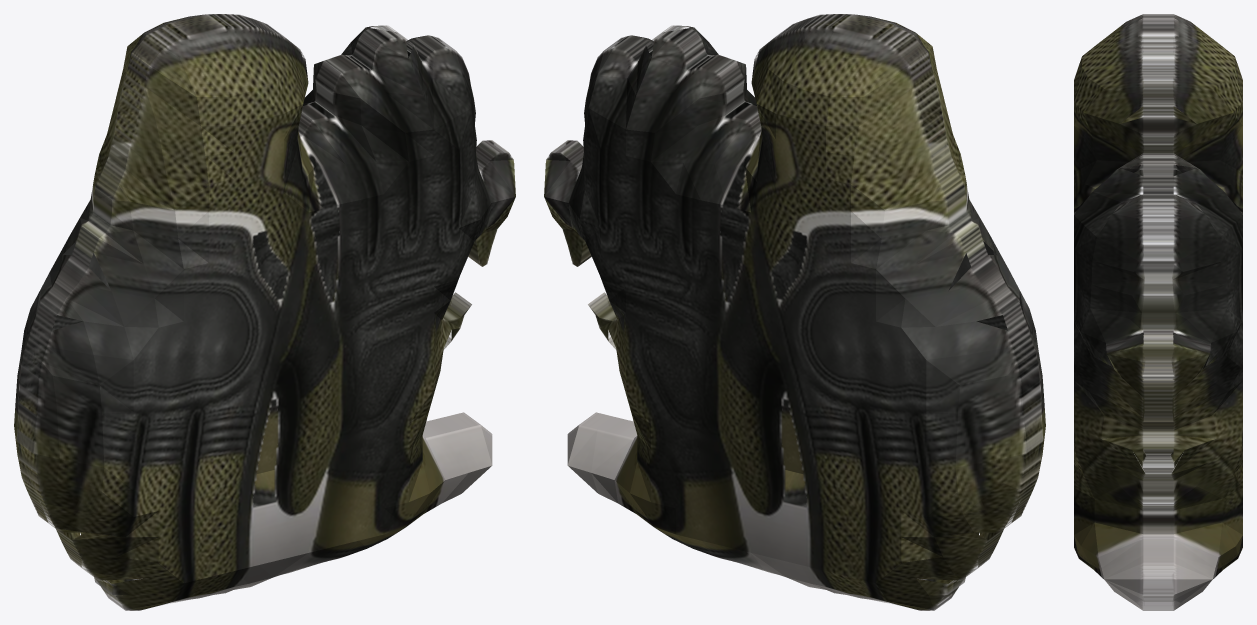
File: sena-apex-touring-glove-091.glb
3 renders of one model, left to right at view 1: azimuth 30°, elevation 25°; view 2: azimuth 150°, elevation 25°; view 3: azimuth 270°, elevation 25°, orthographic. The views are drawn at different scales.
Visible parts, largest first — view 1: world; view 2: world; view 3: world.
Boxes of the visible parts, x1,y1,x2,y2 form: world: (14, 14, 515, 610); world: (544, 14, 1045, 610); world: (1074, 14, 1242, 610).
Bounding box in the file's own units: 0.8889 × 1 × 0.3.
1 material, 1 textured.
